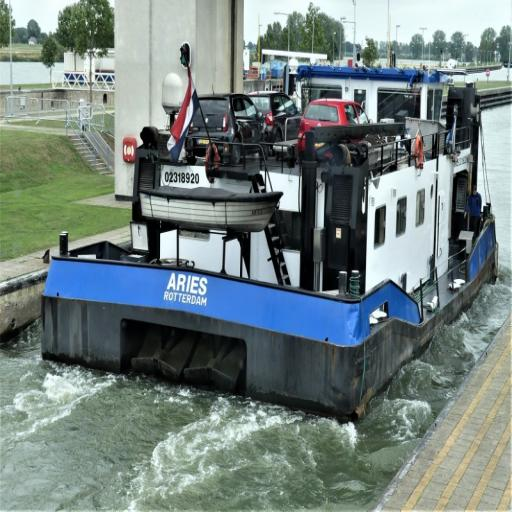tugboat: (40, 60, 503, 438)
